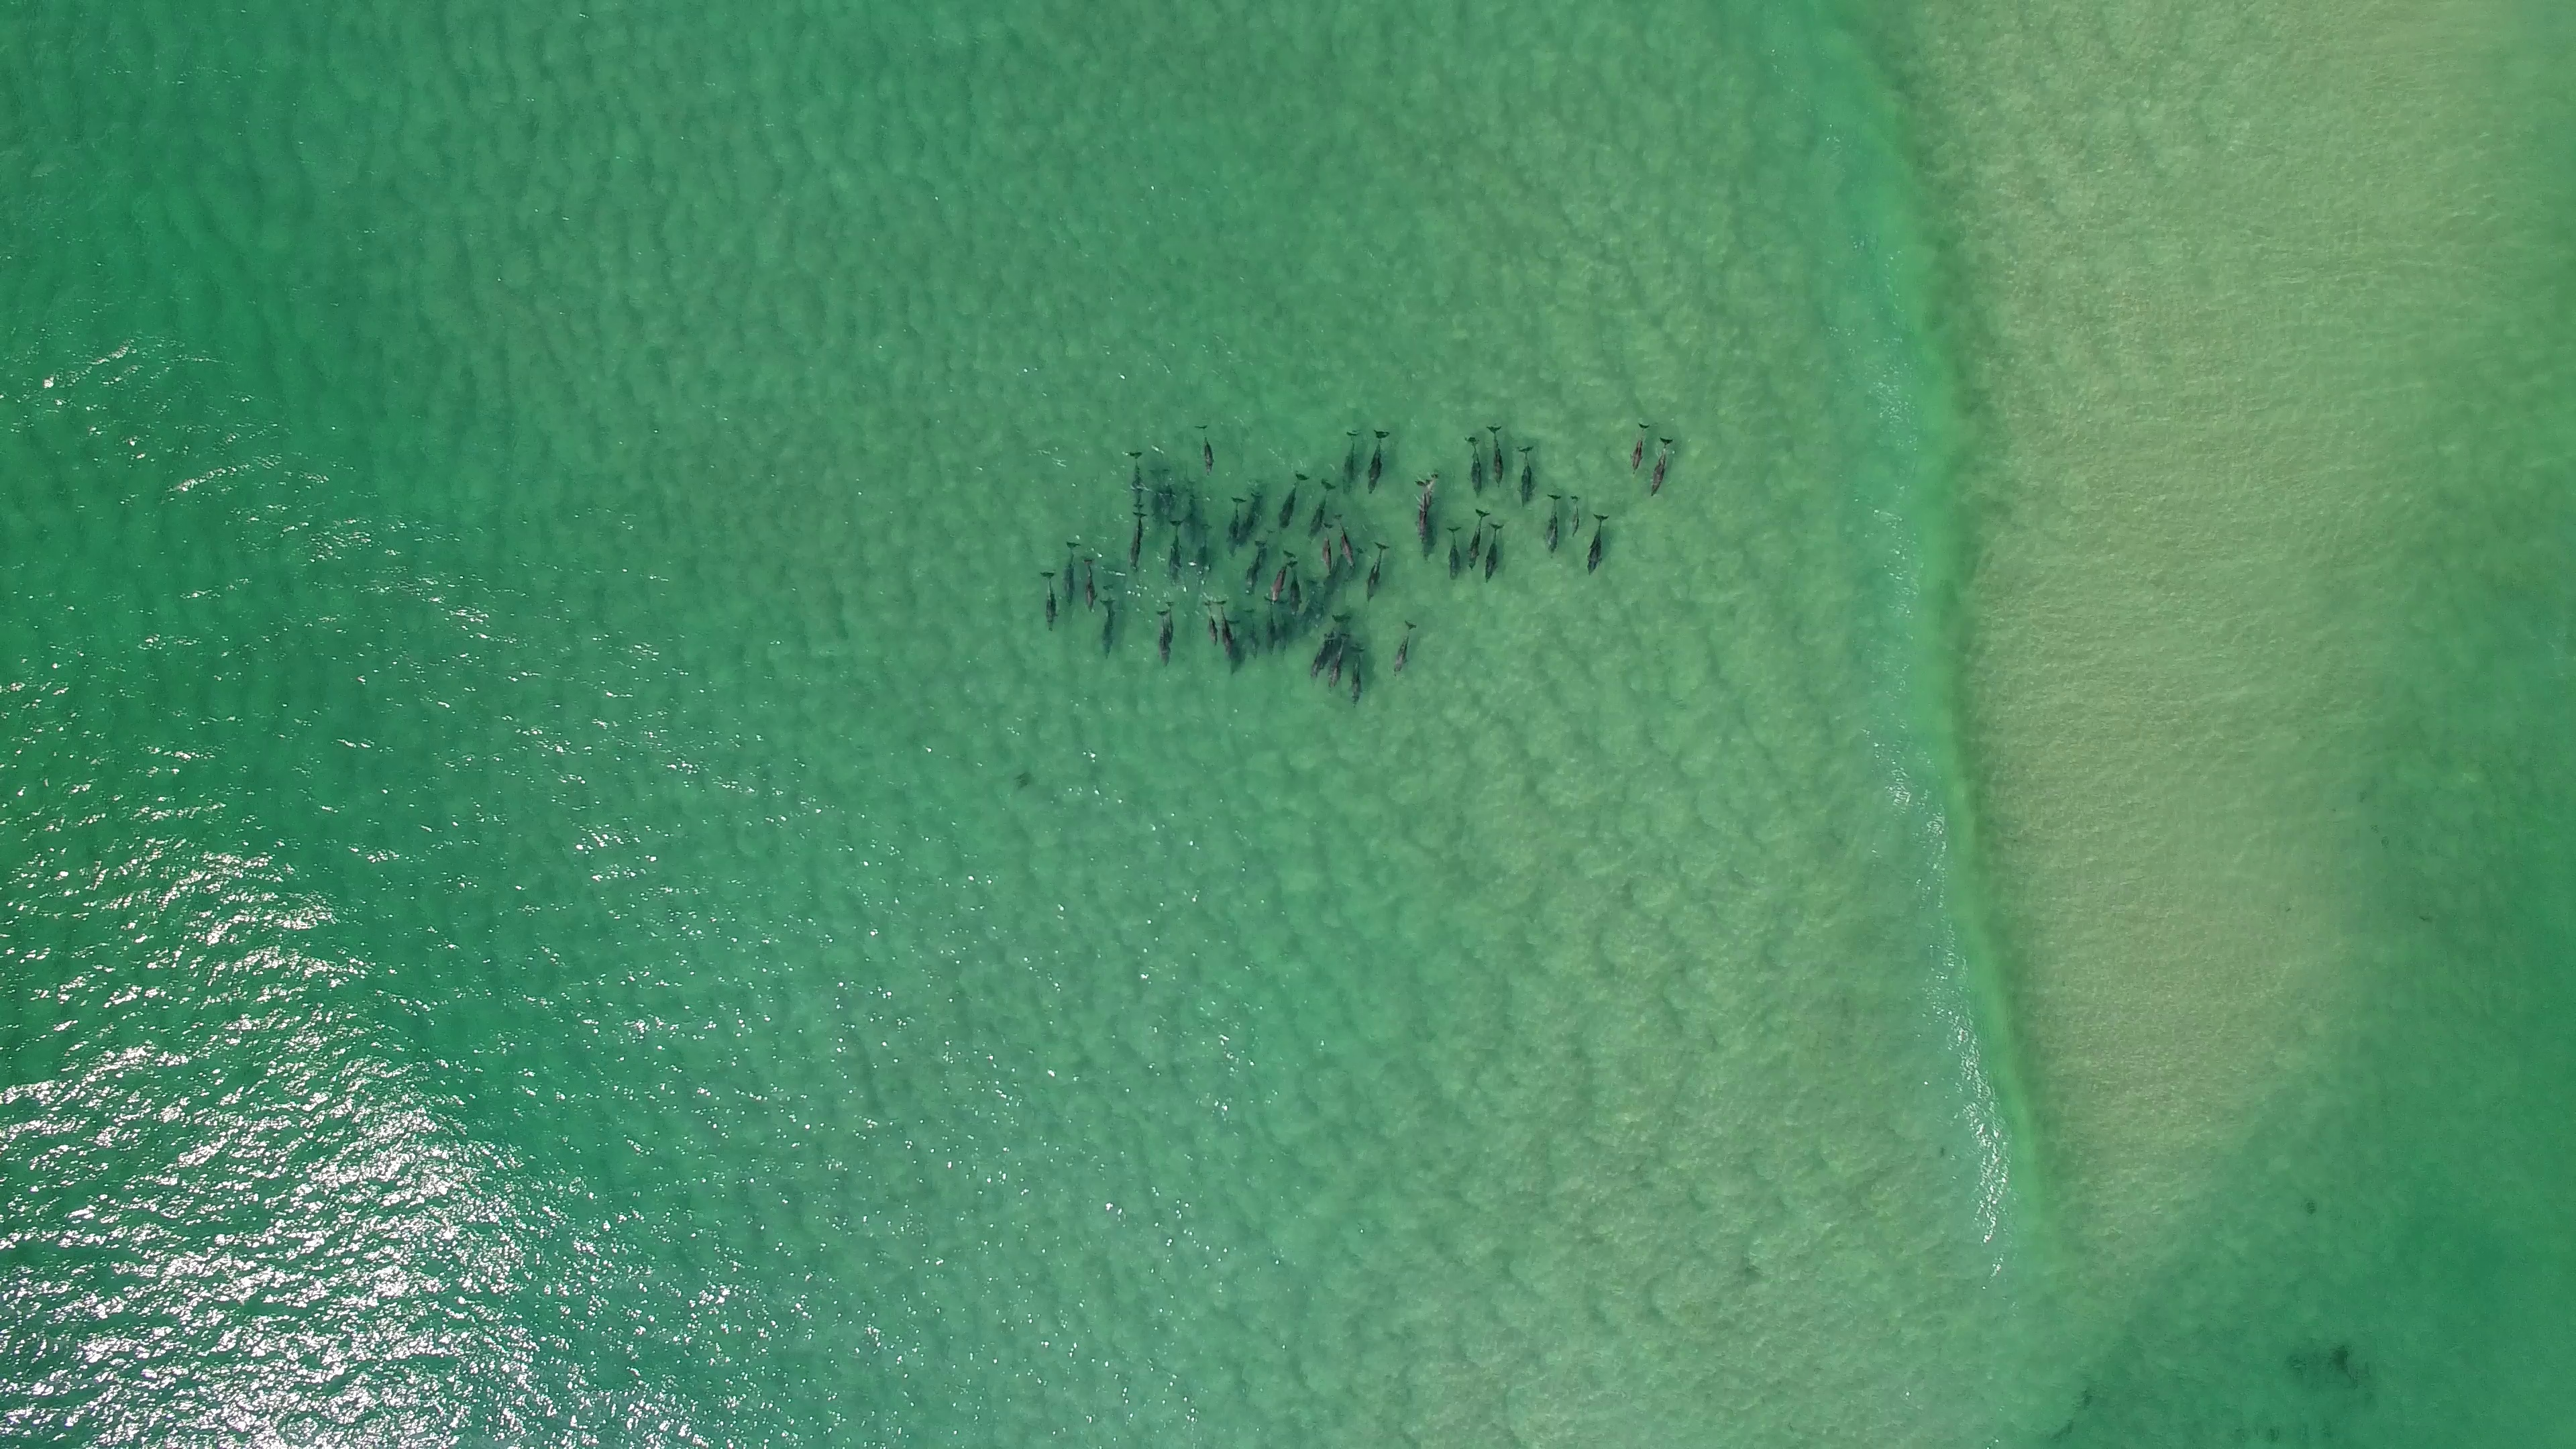dolphin: (1307, 478, 1336, 541), (1329, 630, 1355, 695), (1366, 428, 1391, 495), (1279, 472, 1306, 531), (1270, 548, 1297, 605), (1585, 513, 1608, 575), (1483, 522, 1506, 584), (1484, 423, 1506, 488), (1037, 568, 1058, 633), (1366, 540, 1389, 600), (1125, 449, 1146, 511), (1651, 437, 1674, 494), (1100, 584, 1116, 665), (1461, 437, 1483, 497), (1224, 494, 1244, 559), (1242, 490, 1265, 545), (1516, 444, 1536, 508), (1127, 510, 1146, 573), (1246, 541, 1269, 594), (1311, 632, 1336, 679), (1468, 508, 1488, 568), (1224, 617, 1244, 678), (1152, 610, 1171, 671), (1334, 513, 1355, 568), (1194, 425, 1215, 478), (1394, 621, 1414, 678), (1212, 600, 1233, 649), (1350, 644, 1366, 709), (1629, 421, 1649, 474), (1196, 520, 1214, 579), (1079, 556, 1097, 614), (1546, 492, 1560, 564), (1341, 430, 1357, 494), (1302, 580, 1322, 632), (1168, 520, 1182, 589), (1063, 538, 1077, 607), (1242, 609, 1260, 663), (1200, 600, 1219, 649), (1261, 594, 1277, 655), (1184, 483, 1200, 543), (1422, 471, 1440, 524), (1414, 479, 1428, 545), (1445, 527, 1460, 582), (1161, 600, 1175, 649), (1322, 520, 1334, 573), (1288, 557, 1299, 619), (1569, 494, 1580, 540)
